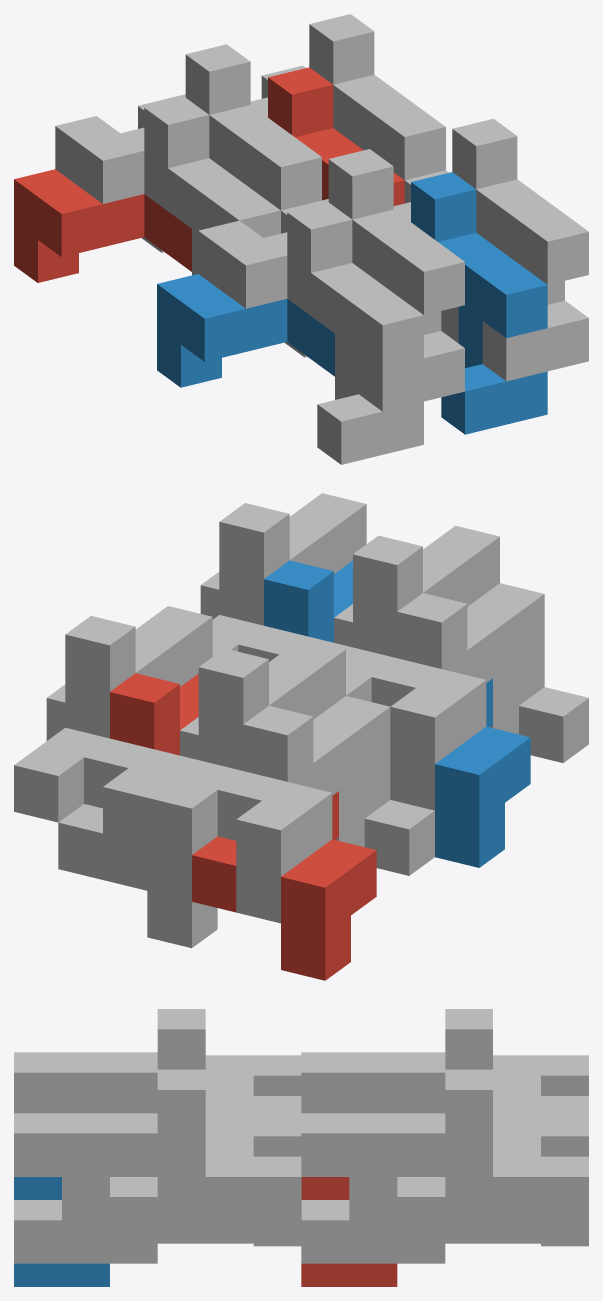
File: tiling.obj
3 renders of one model, top to bottom at view 1: azimuth 30°, elevation 25°; view 2: azimuth 150°, elevation 25°; view 3: azimuth 270°, elevation 25°, orthographic. The views are drawn at different scales.
Parts seen in each view (by area): view 1: copy_2_domain_2, copy_2_domain_8, copy_2_domain_4, copy_2_domain_6, copy_1_domain_2, copy_1_domain_1, copy_2_domain_3, copy_2_domain_7, copy_2_domain_1, copy_1_domain_4, copy_1_domain_3, copy_2_domain_5 (+1 smaller); view 2: copy_1_domain_3, copy_2_domain_1, copy_2_domain_2, copy_1_domain_7, copy_1_domain_1, copy_1_domain_4, copy_2_domain_3, copy_2_domain_4, copy_2_domain_8, copy_2_domain_7, copy_1_domain_2, copy_1_domain_5 (+3 smaller); view 3: copy_2_domain_7, copy_2_domain_8, copy_1_domain_8, copy_1_domain_7, copy_2_domain_3, copy_2_domain_4, copy_1_domain_4, copy_1_domain_3, copy_1_domain_6, copy_1_domain_5, copy_2_domain_5, copy_2_domain_6.
Part boxes in pixels (box(x1,y1,x2,y2)): copy_2_domain_2: box(287, 202, 423, 464); copy_2_domain_8: box(452, 119, 588, 381); copy_2_domain_4: box(328, 149, 464, 411); copy_2_domain_6: box(411, 172, 547, 434); copy_1_domain_2: box(157, 274, 334, 387); copy_1_domain_1: box(14, 169, 191, 282); copy_2_domain_3: box(185, 44, 321, 210); copy_2_domain_7: box(309, 14, 445, 179); copy_2_domain_1: box(144, 97, 280, 275); copy_1_domain_4: box(198, 200, 324, 308); copy_1_domain_3: box(55, 96, 181, 203); copy_2_domain_5: box(268, 67, 404, 205); copy_1_domain_3: box(147, 717, 332, 923); copy_2_domain_1: box(243, 696, 434, 875); copy_2_domain_2: box(397, 583, 588, 762); copy_1_domain_7: box(14, 684, 198, 890); copy_1_domain_1: box(192, 791, 376, 980); copy_1_domain_4: box(334, 604, 486, 810); copy_2_domain_3: box(198, 638, 390, 818); copy_2_domain_4: box(353, 525, 544, 705); copy_2_domain_8: box(219, 493, 366, 625); copy_2_domain_7: box(65, 606, 212, 738); copy_1_domain_2: box(435, 678, 530, 867); copy_1_domain_5: box(58, 804, 217, 948); copy_2_domain_7: box(301, 1069, 492, 1263); copy_2_domain_8: box(14, 1069, 205, 1263); copy_1_domain_8: box(110, 1116, 301, 1240); copy_1_domain_7: box(397, 1116, 588, 1240); copy_2_domain_3: box(301, 1009, 492, 1113); copy_2_domain_4: box(14, 1009, 205, 1113); copy_1_domain_4: box(205, 1055, 301, 1115); copy_1_domain_3: box(493, 1055, 588, 1115); copy_1_domain_6: box(110, 1220, 301, 1263); copy_1_domain_5: box(397, 1220, 588, 1263); copy_2_domain_5: box(301, 1177, 397, 1286); copy_2_domain_6: box(14, 1177, 109, 1286).
Size of the model in its own units: 8 by 5 by 12.
